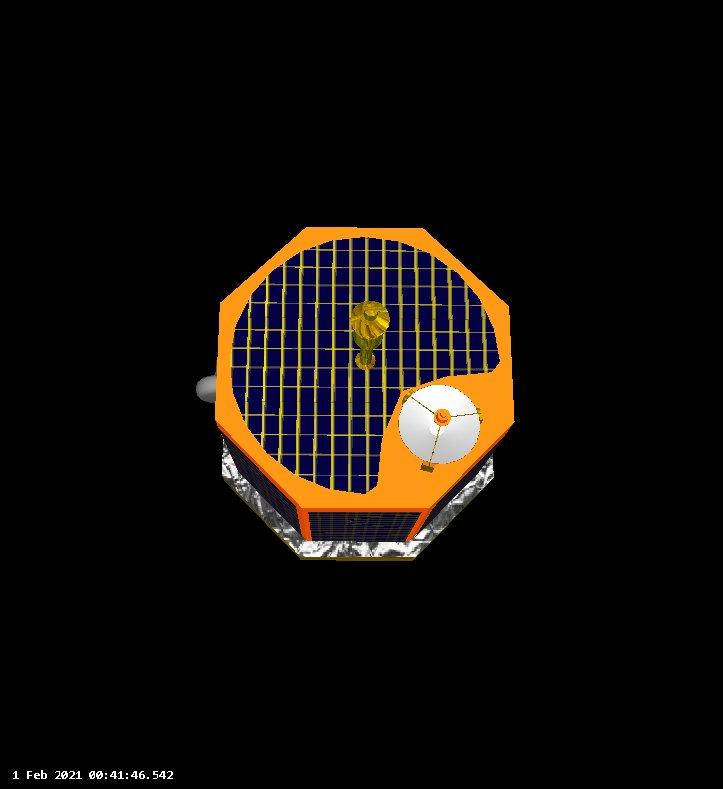antenna: (397, 382, 482, 466)
body: (213, 222, 518, 565)
solar: (231, 235, 502, 496), (220, 428, 302, 538), (415, 441, 505, 539), (305, 511, 423, 550)
thruster: (194, 370, 219, 404)
